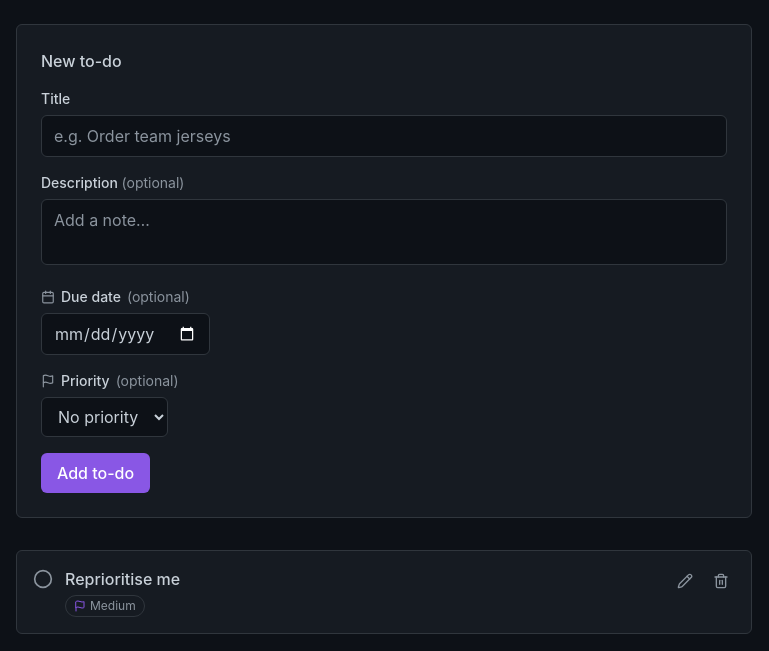
Scenario: ListDetailView › changes an item priority through the inline editor
(page scrolled)
Click the button named "Edit Reprioritise me": (685, 581) [671,567,699,595]
(page scrolled)
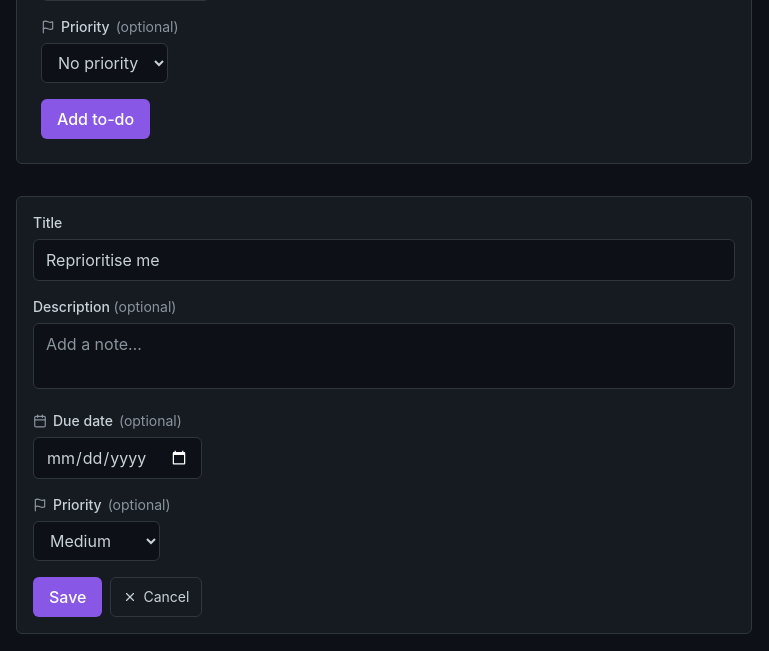
Now the dropdown with id "item-priority-i1" shows "Medium"
Select "High" in the dropdown with id "item-priority-i1": (96, 541) [33,521,160,561]
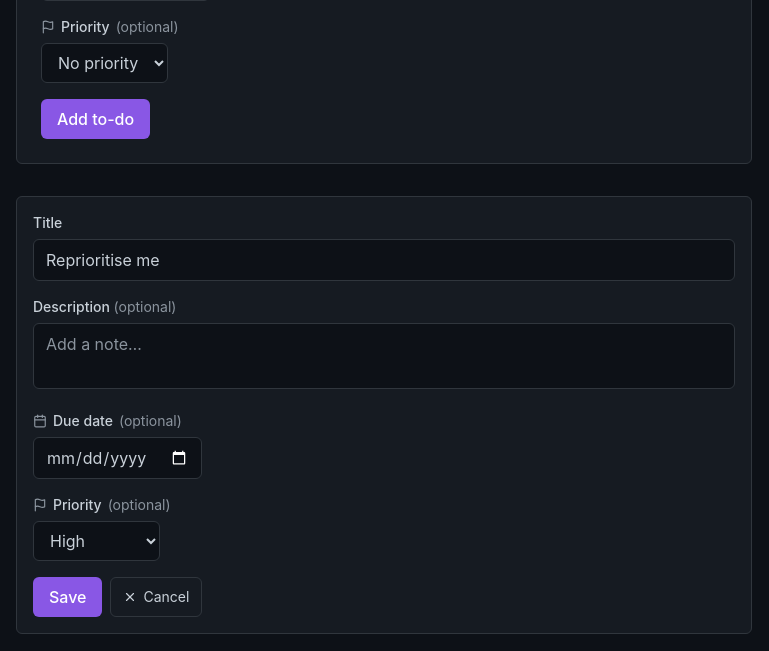
Submit the 2nd form, box [33,213,735,617]
(page scrolled)
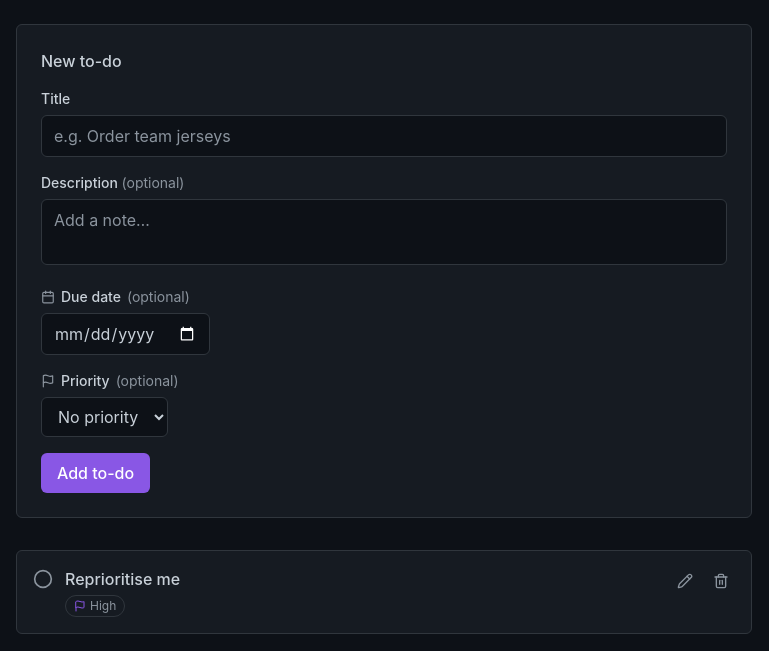
Now the element with test id "priority-badge" reads "High", box [90,598,116,613]
